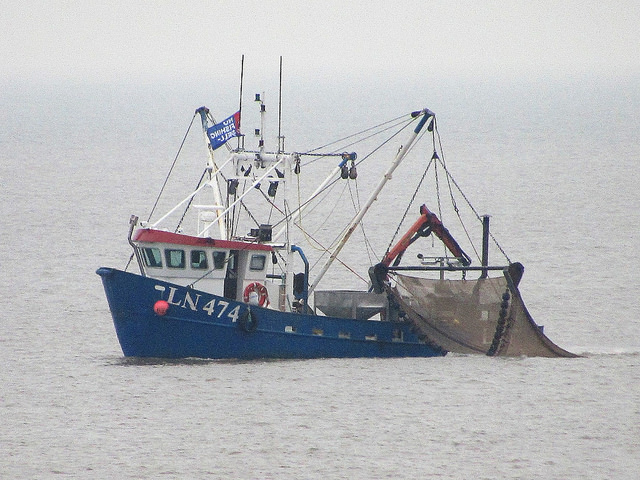fishing_boat: (98, 45, 587, 360)
